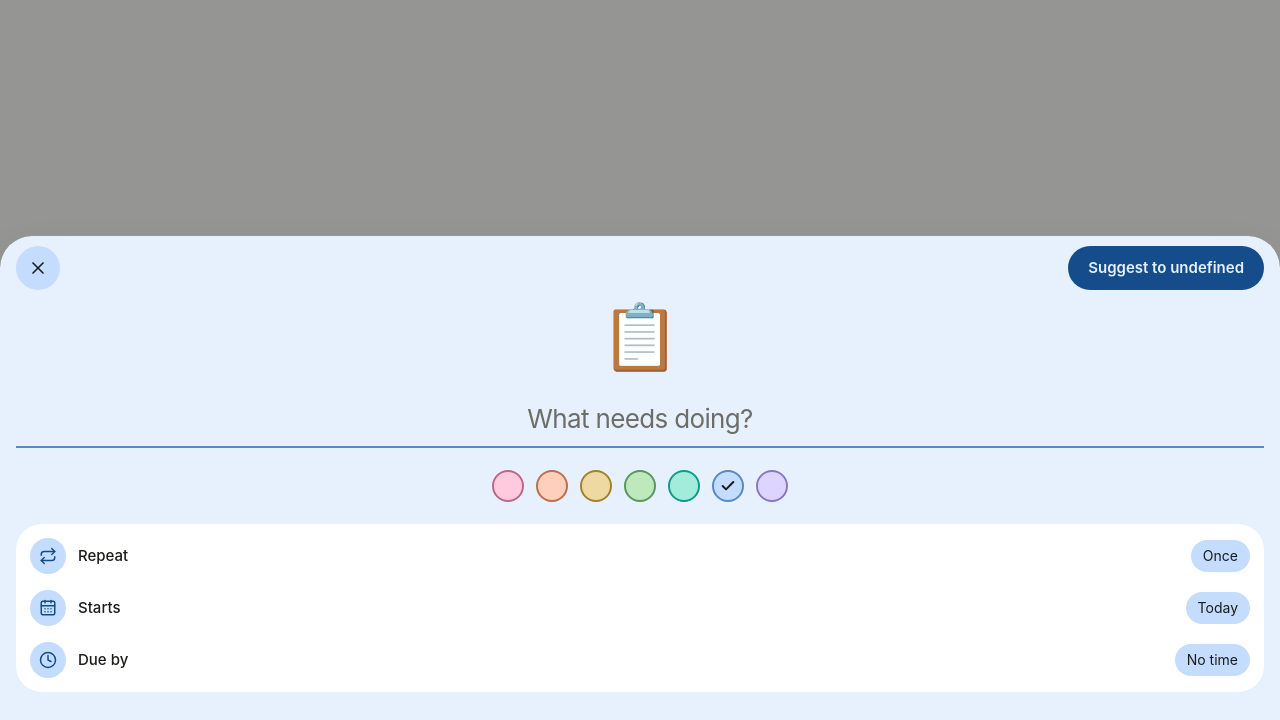
Test: automatic emoji in the New task sheet › falls back to the default emoji at once when the title is cleared
In the field named "Task": coordinates (640, 420) [16,392,1264,448], type "Water the plants"
Wait 300 ms
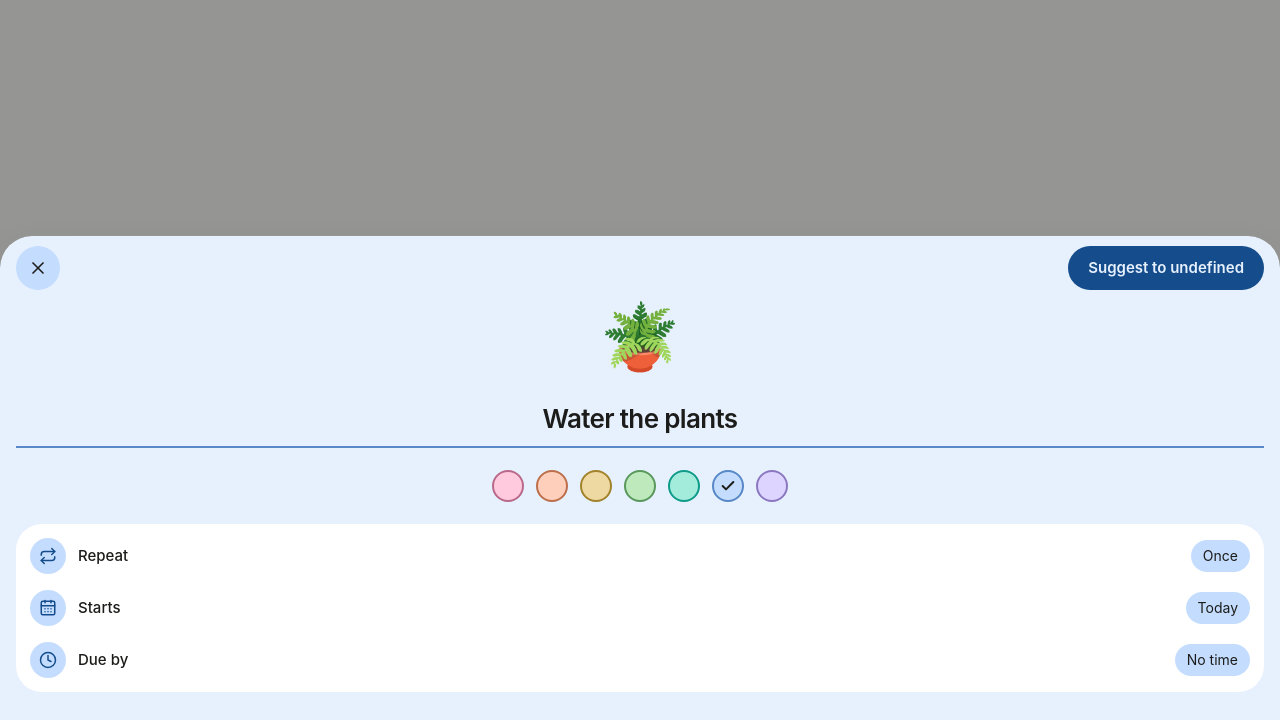
Result: the button named "Emoji: potted plant, change" is shown at [600,296,680,376]
Clear the field named "Task": coordinates (640, 420) [16,392,1264,448]
Wait 600 ms
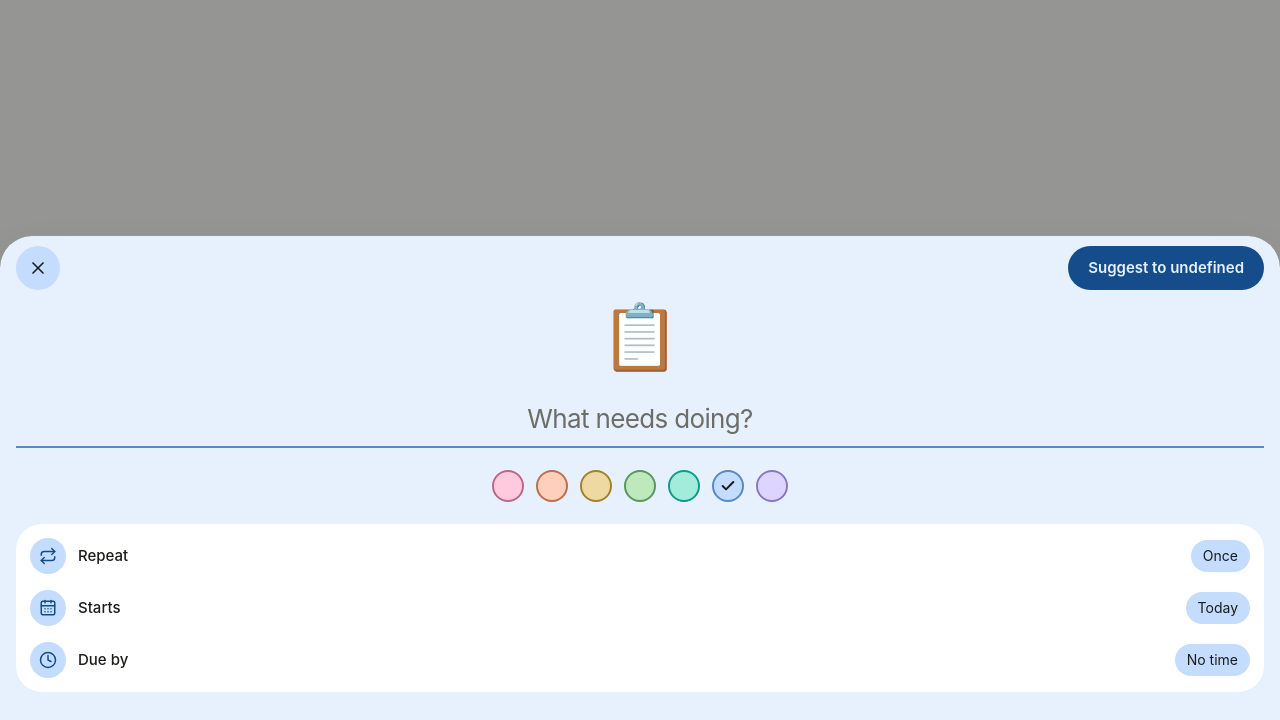
Result: the button named "Emoji: clipboard, default, change" is shown at [600,296,680,376]
